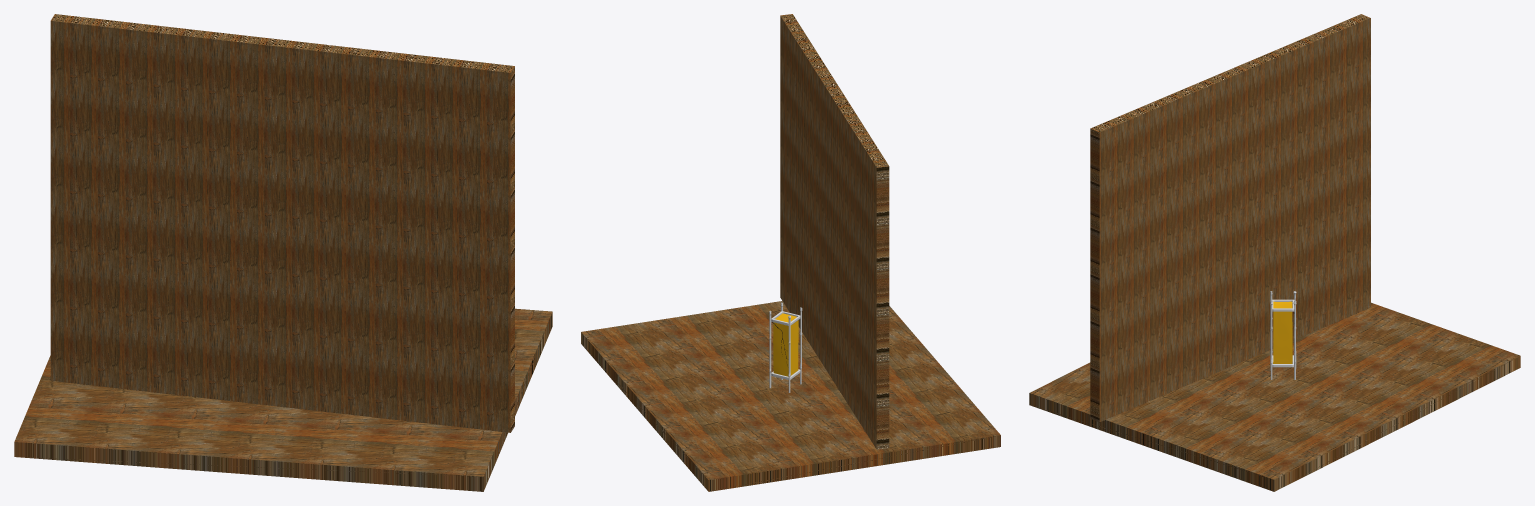
The model's file is KoreanLamp_triangle.FBX.
3 renders of one model, left to right at view 1: azimuth 30°, elevation 25°; view 2: azimuth 150°, elevation 25°; view 3: azimuth 270°, elevation 25°, orthographic. The views are drawn at different scales.
Parts seen in each view (by area): view 1: wall, bottom; view 2: bottom, wall, lampshade, lamp; view 3: wall, bottom, lampshade.
Part boxes in pixels (box(x1,y1,x2,y2)): wall: box(50, 14, 514, 432); bottom: box(14, 308, 552, 491); bottom: box(581, 301, 1000, 491); wall: box(780, 14, 889, 449); lampshade: box(773, 313, 798, 376); lamp: box(769, 302, 802, 392); wall: box(1090, 14, 1370, 421); bottom: box(1029, 302, 1520, 491); lampshade: box(1273, 301, 1292, 363).
Size of the model in its own units: 1359 by 907 by 1337.
